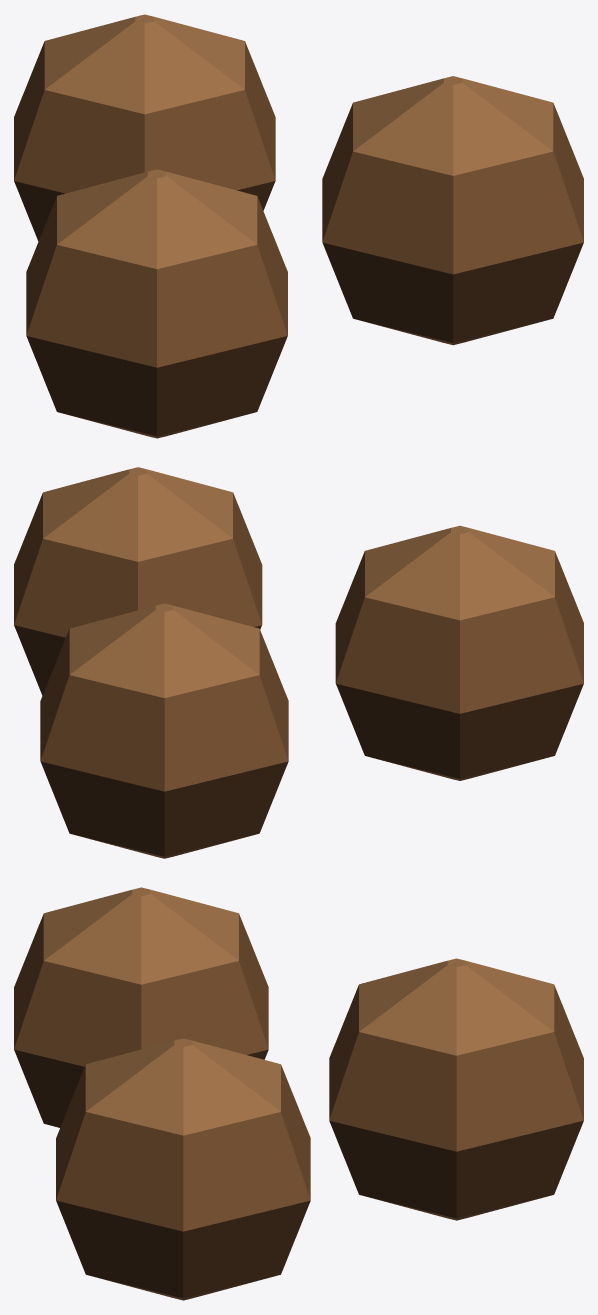
The model's file is palmtree-crop.glb.
3 views of the same model, one above another, from view 1: azimuth 30°, elevation 25°; view 2: azimuth 150°, elevation 25°; view 3: azimuth 270°, elevation 25° (orthographic). The views are drawn at different scales.
Parts seen in each view (by area): view 1: palmtree-crop; view 2: palmtree-crop; view 3: palmtree-crop.
Part boxes in pixels (box(x1,y1,x2,y2)): palmtree-crop: box(14, 14, 583, 438); palmtree-crop: box(14, 467, 583, 858); palmtree-crop: box(14, 887, 583, 1300).
Bounding box in the file's own units: 0.31 × 0.133 × 0.2712.
1 material, 1 textured.
